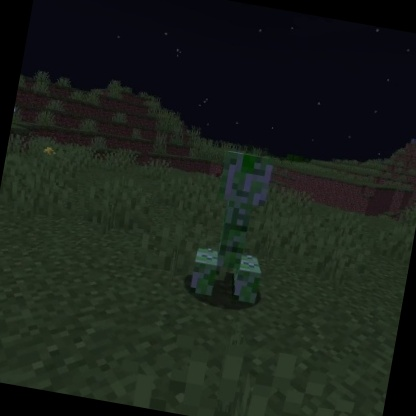creeper: (182, 143, 288, 310)
